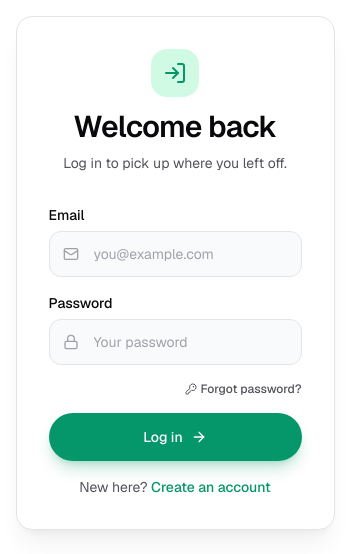
Test: LoginForm › does not enforce a minimum password length when logging in
Type "ada@example.com" into the field labelled "Email" at (175, 254), box x1=48 y1=231 x2=302 y2=277
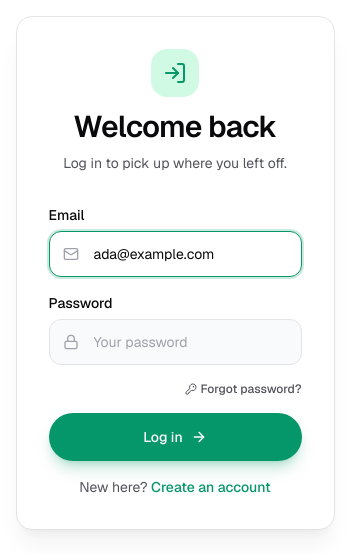
Type "abc" into the password field labelled "Password" at (175, 342), box x1=48 y1=319 x2=302 y2=365
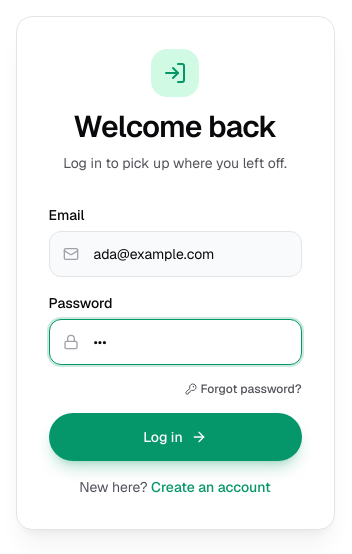
Click the button "Log in" at (175, 437), box x1=48 y1=413 x2=302 y2=461
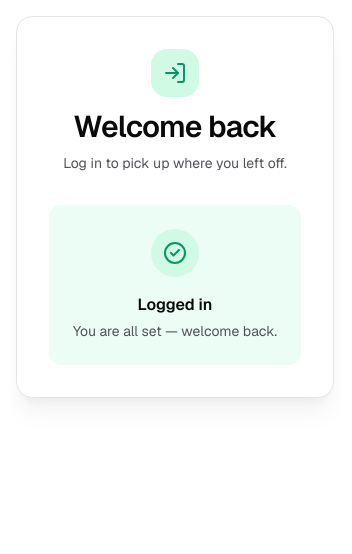
Check: the text "Logged in" is shown, box x1=138 y1=294 x2=212 y2=315
